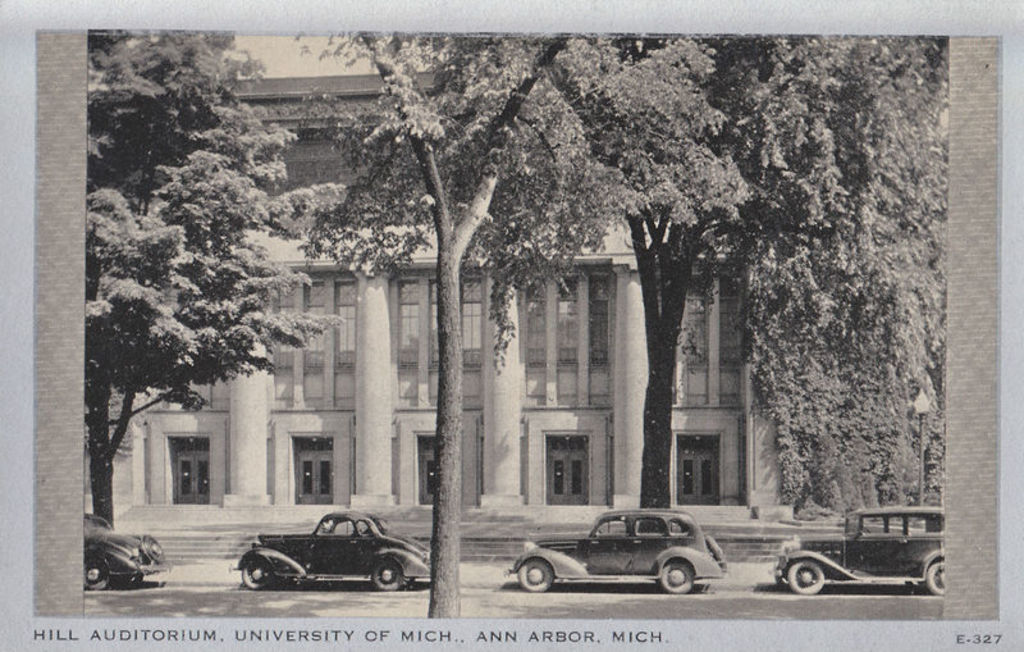Car: (508, 509, 737, 598), (229, 507, 437, 593), (768, 503, 954, 594), (80, 508, 174, 591)
